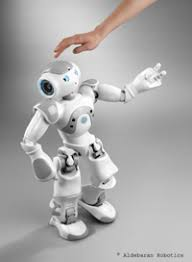nao: (14, 51, 171, 240)
